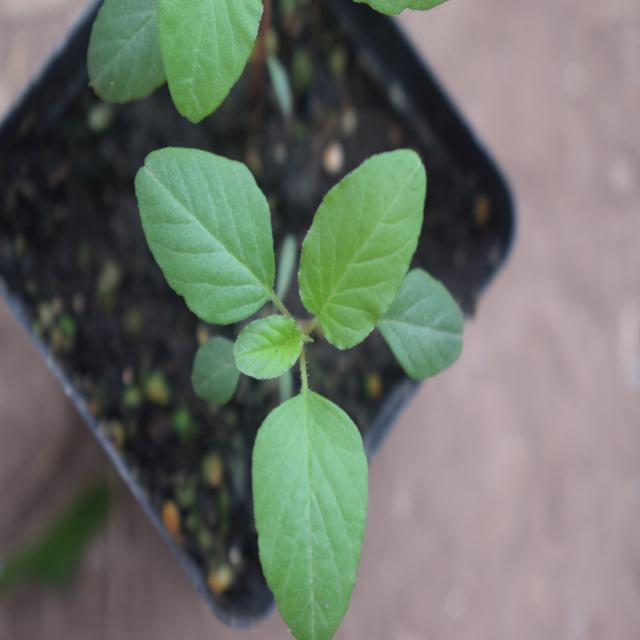pigweed: (133, 141, 466, 625)
